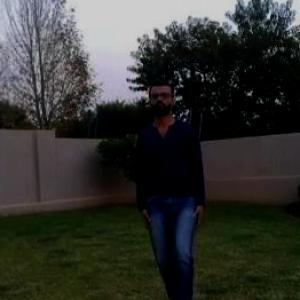follow: (134, 69, 211, 299)
